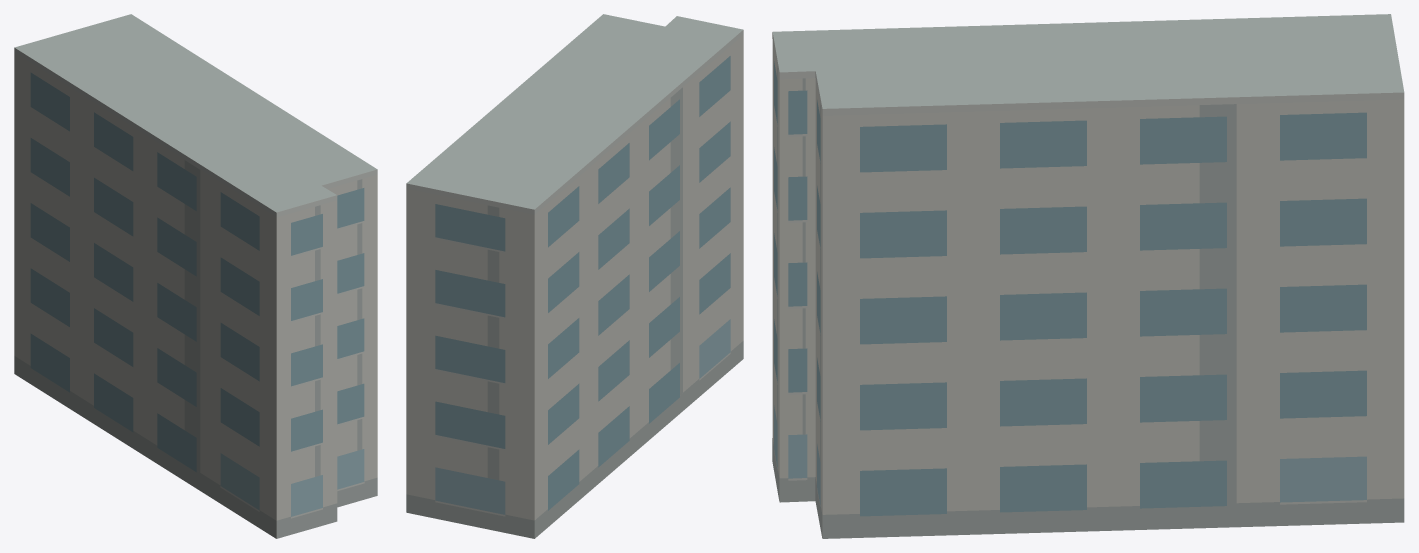
Rendered from survey-upis-32612796.glb.
3 renders of one model, left to right at view 1: azimuth 30°, elevation 25°; view 2: azimuth 150°, elevation 25°; view 3: azimuth 270°, elevation 25°, orthographic. The views are drawn at different scales.
Parts seen in each view (by area): view 1: survey-upis-32612796.tmp; view 2: survey-upis-32612796.tmp; view 3: survey-upis-32612796.tmp.
Part boxes in pixels (box(x1,y1,x2,y2)): survey-upis-32612796.tmp: box(14, 14, 377, 538); survey-upis-32612796.tmp: box(406, 14, 743, 538); survey-upis-32612796.tmp: box(772, 14, 1404, 538).
Bounding box in the file's own units: 7.23 × 15.25 × 20.32.
